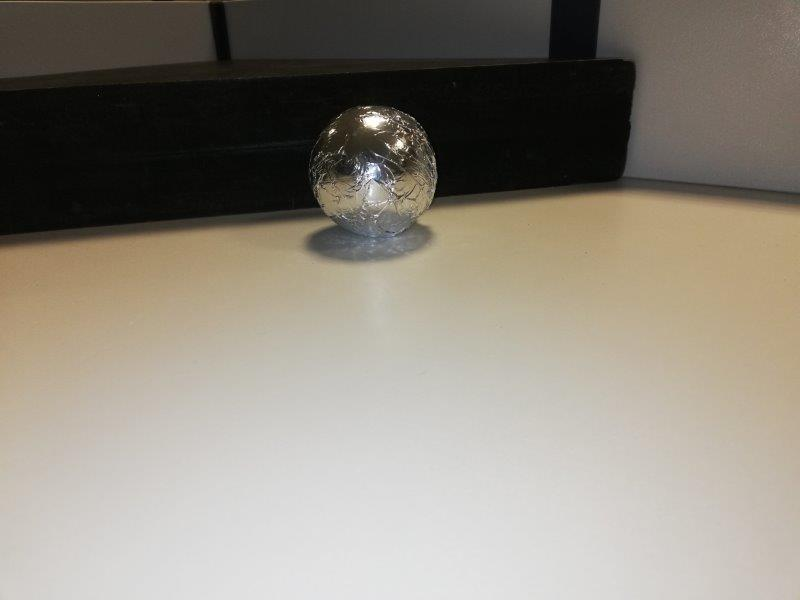bianca: (306, 106, 437, 234)
